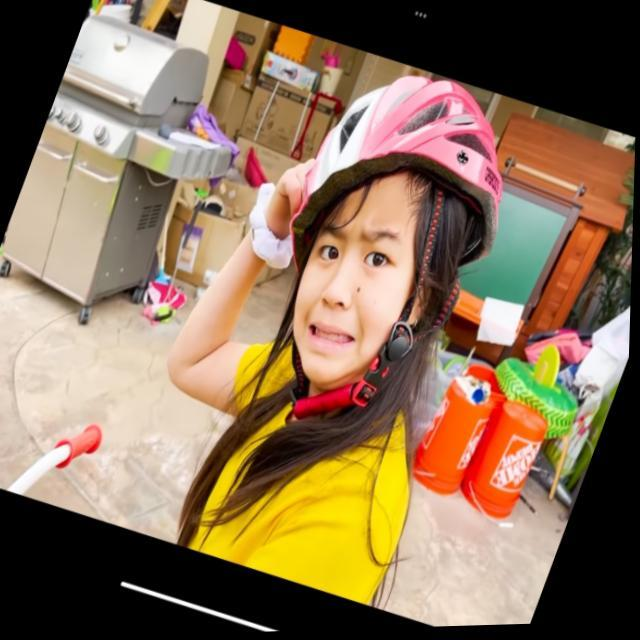Helmet: (278, 68, 492, 398)
